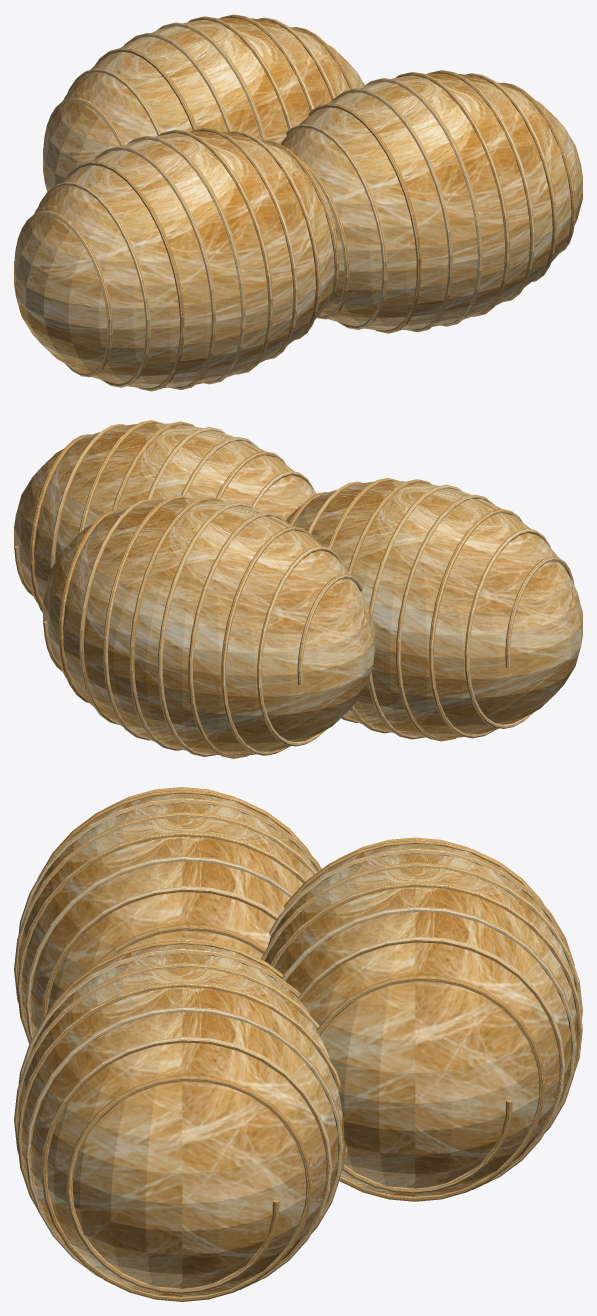
Rendered from raw_silk.obj.
3 renders of one model, top to bottom at view 1: azimuth 30°, elevation 25°; view 2: azimuth 150°, elevation 25°; view 3: azimuth 270°, elevation 25°, orthographic. The views are drawn at different scales.
Parts seen in each view (by area): view 1: cocoon_0, cocoon_1, cocoon_2, thread_0, thread_1, thread_2; view 2: cocoon_2, cocoon_0, cocoon_1, thread_2, thread_0, thread_1; view 3: cocoon_1, cocoon_2, cocoon_0, thread_1, thread_2, thread_0.
Part boxes in pixels (x1=…): cocoon_0: x1=14, y1=131, x2=338, y2=388; cocoon_1: x1=281, y1=73, x2=582, y2=330; cocoon_2: x1=43, y1=18, x2=364, y2=191; thread_0: x1=14, y1=128, x2=338, y2=391; thread_1: x1=286, y1=70, x2=575, y2=333; thread_2: x1=43, y1=14, x2=353, y2=147; cocoon_2: x1=43, y1=498, x2=375, y2=755; cocoon_0: x1=285, y1=481, x2=582, y2=738; cocoon_1: x1=14, y1=423, x2=316, y2=604; thread_2: x1=43, y1=495, x2=362, y2=758; thread_0: x1=289, y1=478, x2=574, y2=741; thread_1: x1=14, y1=420, x2=314, y2=612; cocoon_1: x1=18, y1=944, x2=344, y2=1297; cocoon_2: x1=265, y1=844, x2=577, y2=1196; cocoon_0: x1=18, y1=793, x2=318, y2=1033; thread_1: x1=14, y1=937, x2=347, y2=1301; thread_2: x1=260, y1=837, x2=582, y2=1201; thread_0: x1=14, y1=787, x2=321, y2=1043.
Size of the model in its own units: 112 by 49.62 by 77.65.
Materials: 1 (1 with a texture image).
